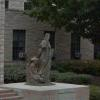Statue: (22, 28, 65, 86)
